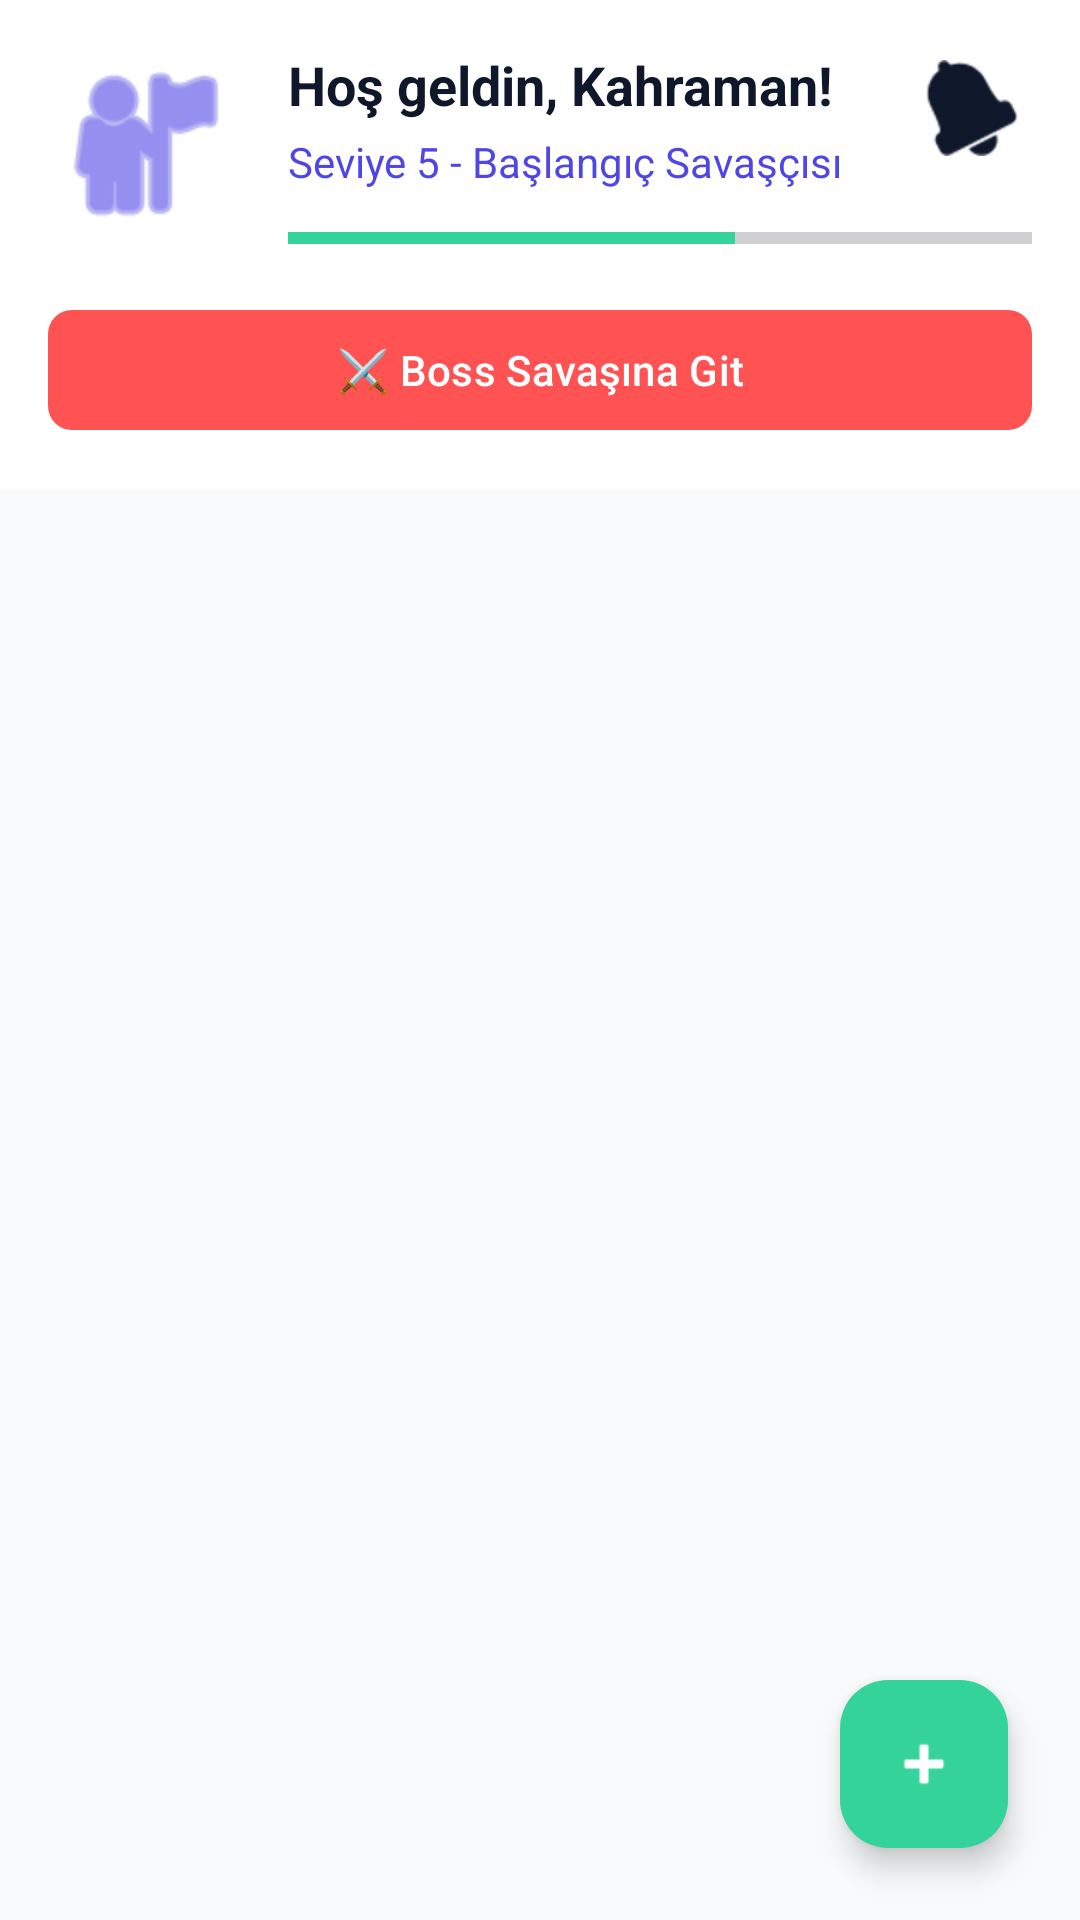

Icons on this 1080×1920 Android screen, each with the point to tap as (x,y):
add: (924,1764)
popup reminder: (972,108)
